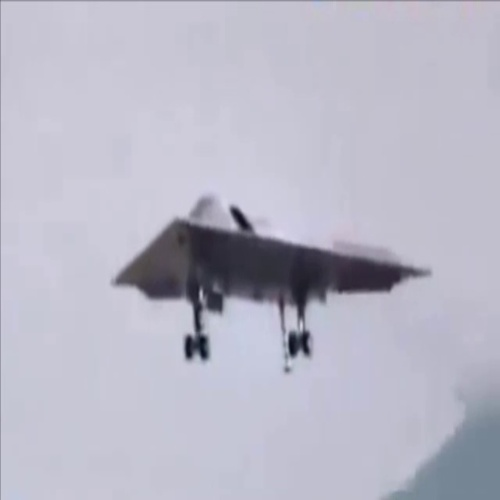uav1043: (104, 186, 436, 378)
